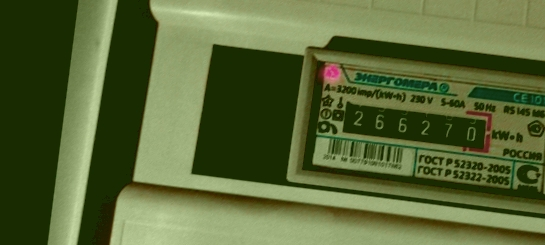0: (463, 123, 477, 142)
2: (349, 107, 364, 127), (418, 117, 431, 136)
6: (372, 111, 386, 130), (395, 115, 409, 134)
7: (440, 120, 454, 139)
screen: (330, 90, 498, 159)
